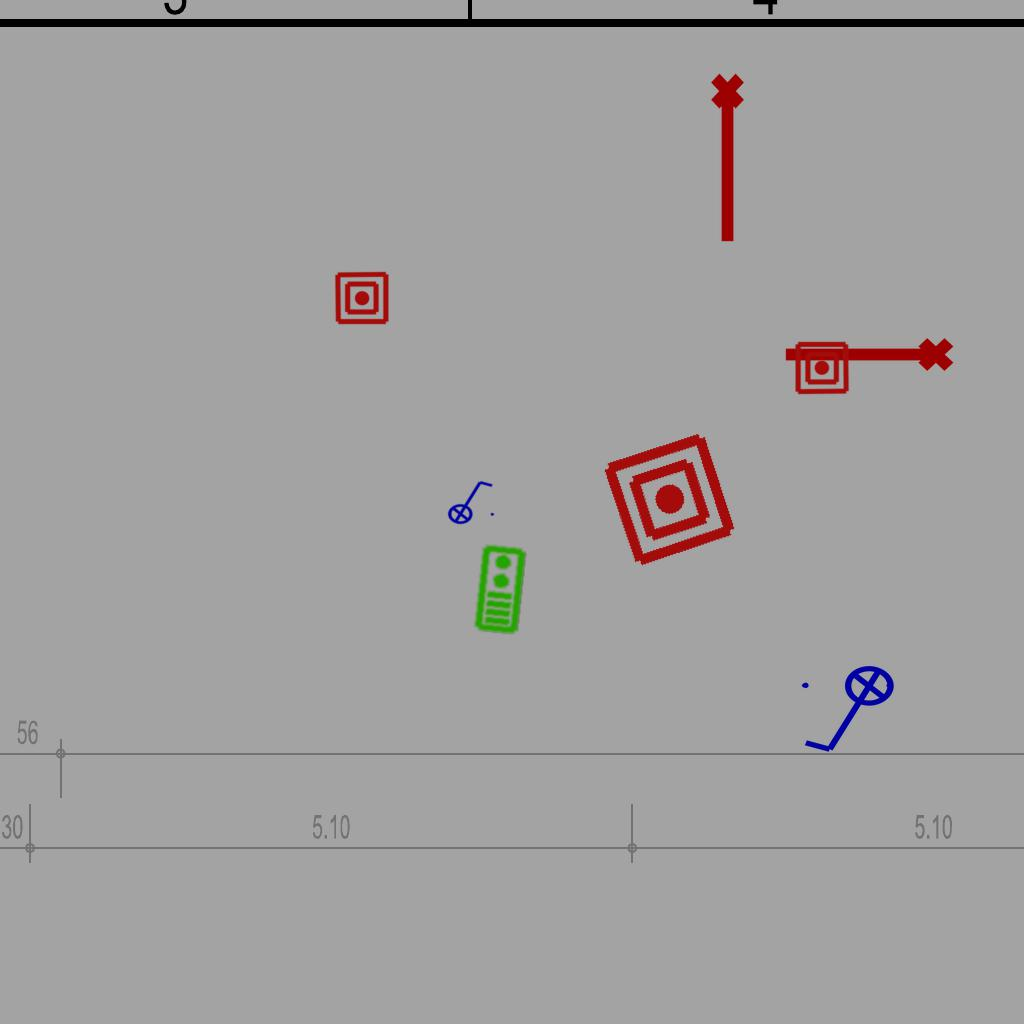ASR_Ansaugoeffnung: (780, 334, 956, 380), (707, 71, 753, 247)
Ausschalter_beleuchtet: (796, 664, 908, 760), (441, 477, 497, 525)
Gegensprechanlage_mit_Video: (471, 542, 528, 636)
NAM-Nichtautomatischer_Melder: (598, 428, 741, 571), (334, 270, 390, 326), (794, 340, 850, 396)
